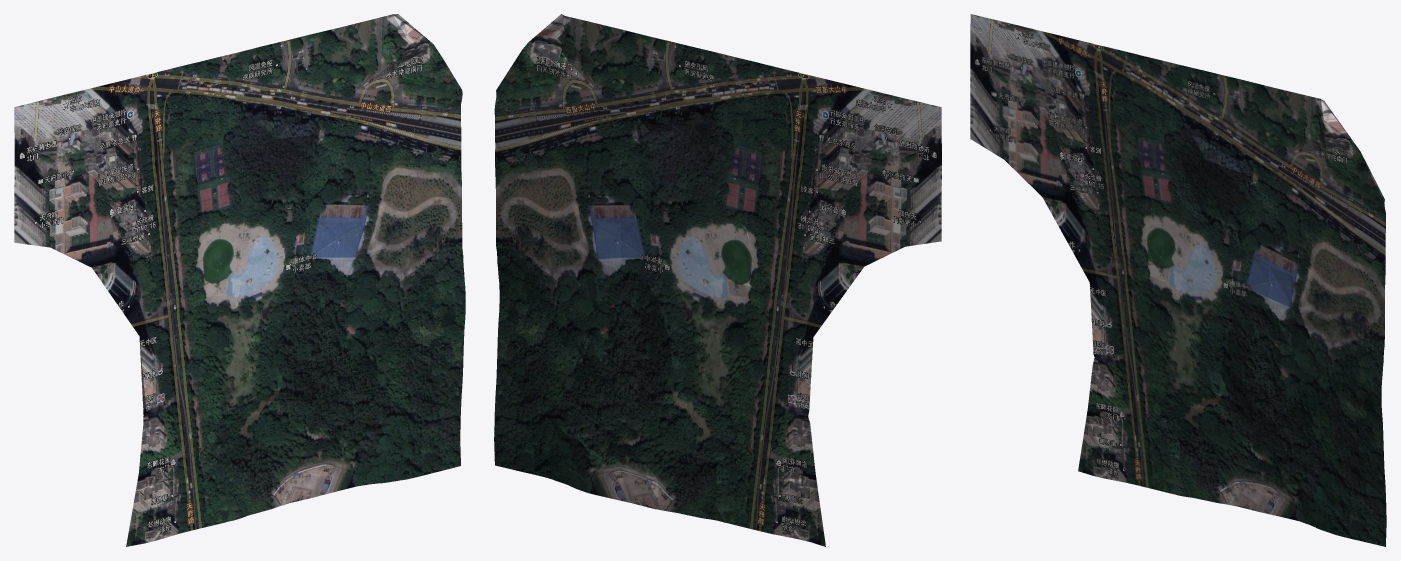
3 views of the same model, side by side, from view 1: azimuth 30°, elevation 25°; view 2: azimuth 150°, elevation 25°; view 3: azimuth 330°, elevation 25° (orthographic). The views are drawn at different scales.
Visible parts, largest first — view 1: 0_1_2_2_1_0; view 2: 0_1_2_2_1_0; view 3: 0_1_2_2_1_0.
Part boxes in pixels (x1,y1,x2,y2): 0_1_2_2_1_0: (14, 14, 465, 546); 0_1_2_2_1_0: (494, 14, 941, 546); 0_1_2_2_1_0: (970, 14, 1386, 546).
Bounding box in the file's own units: 486 × 486 × 20.39.
1 material, 1 textured.
